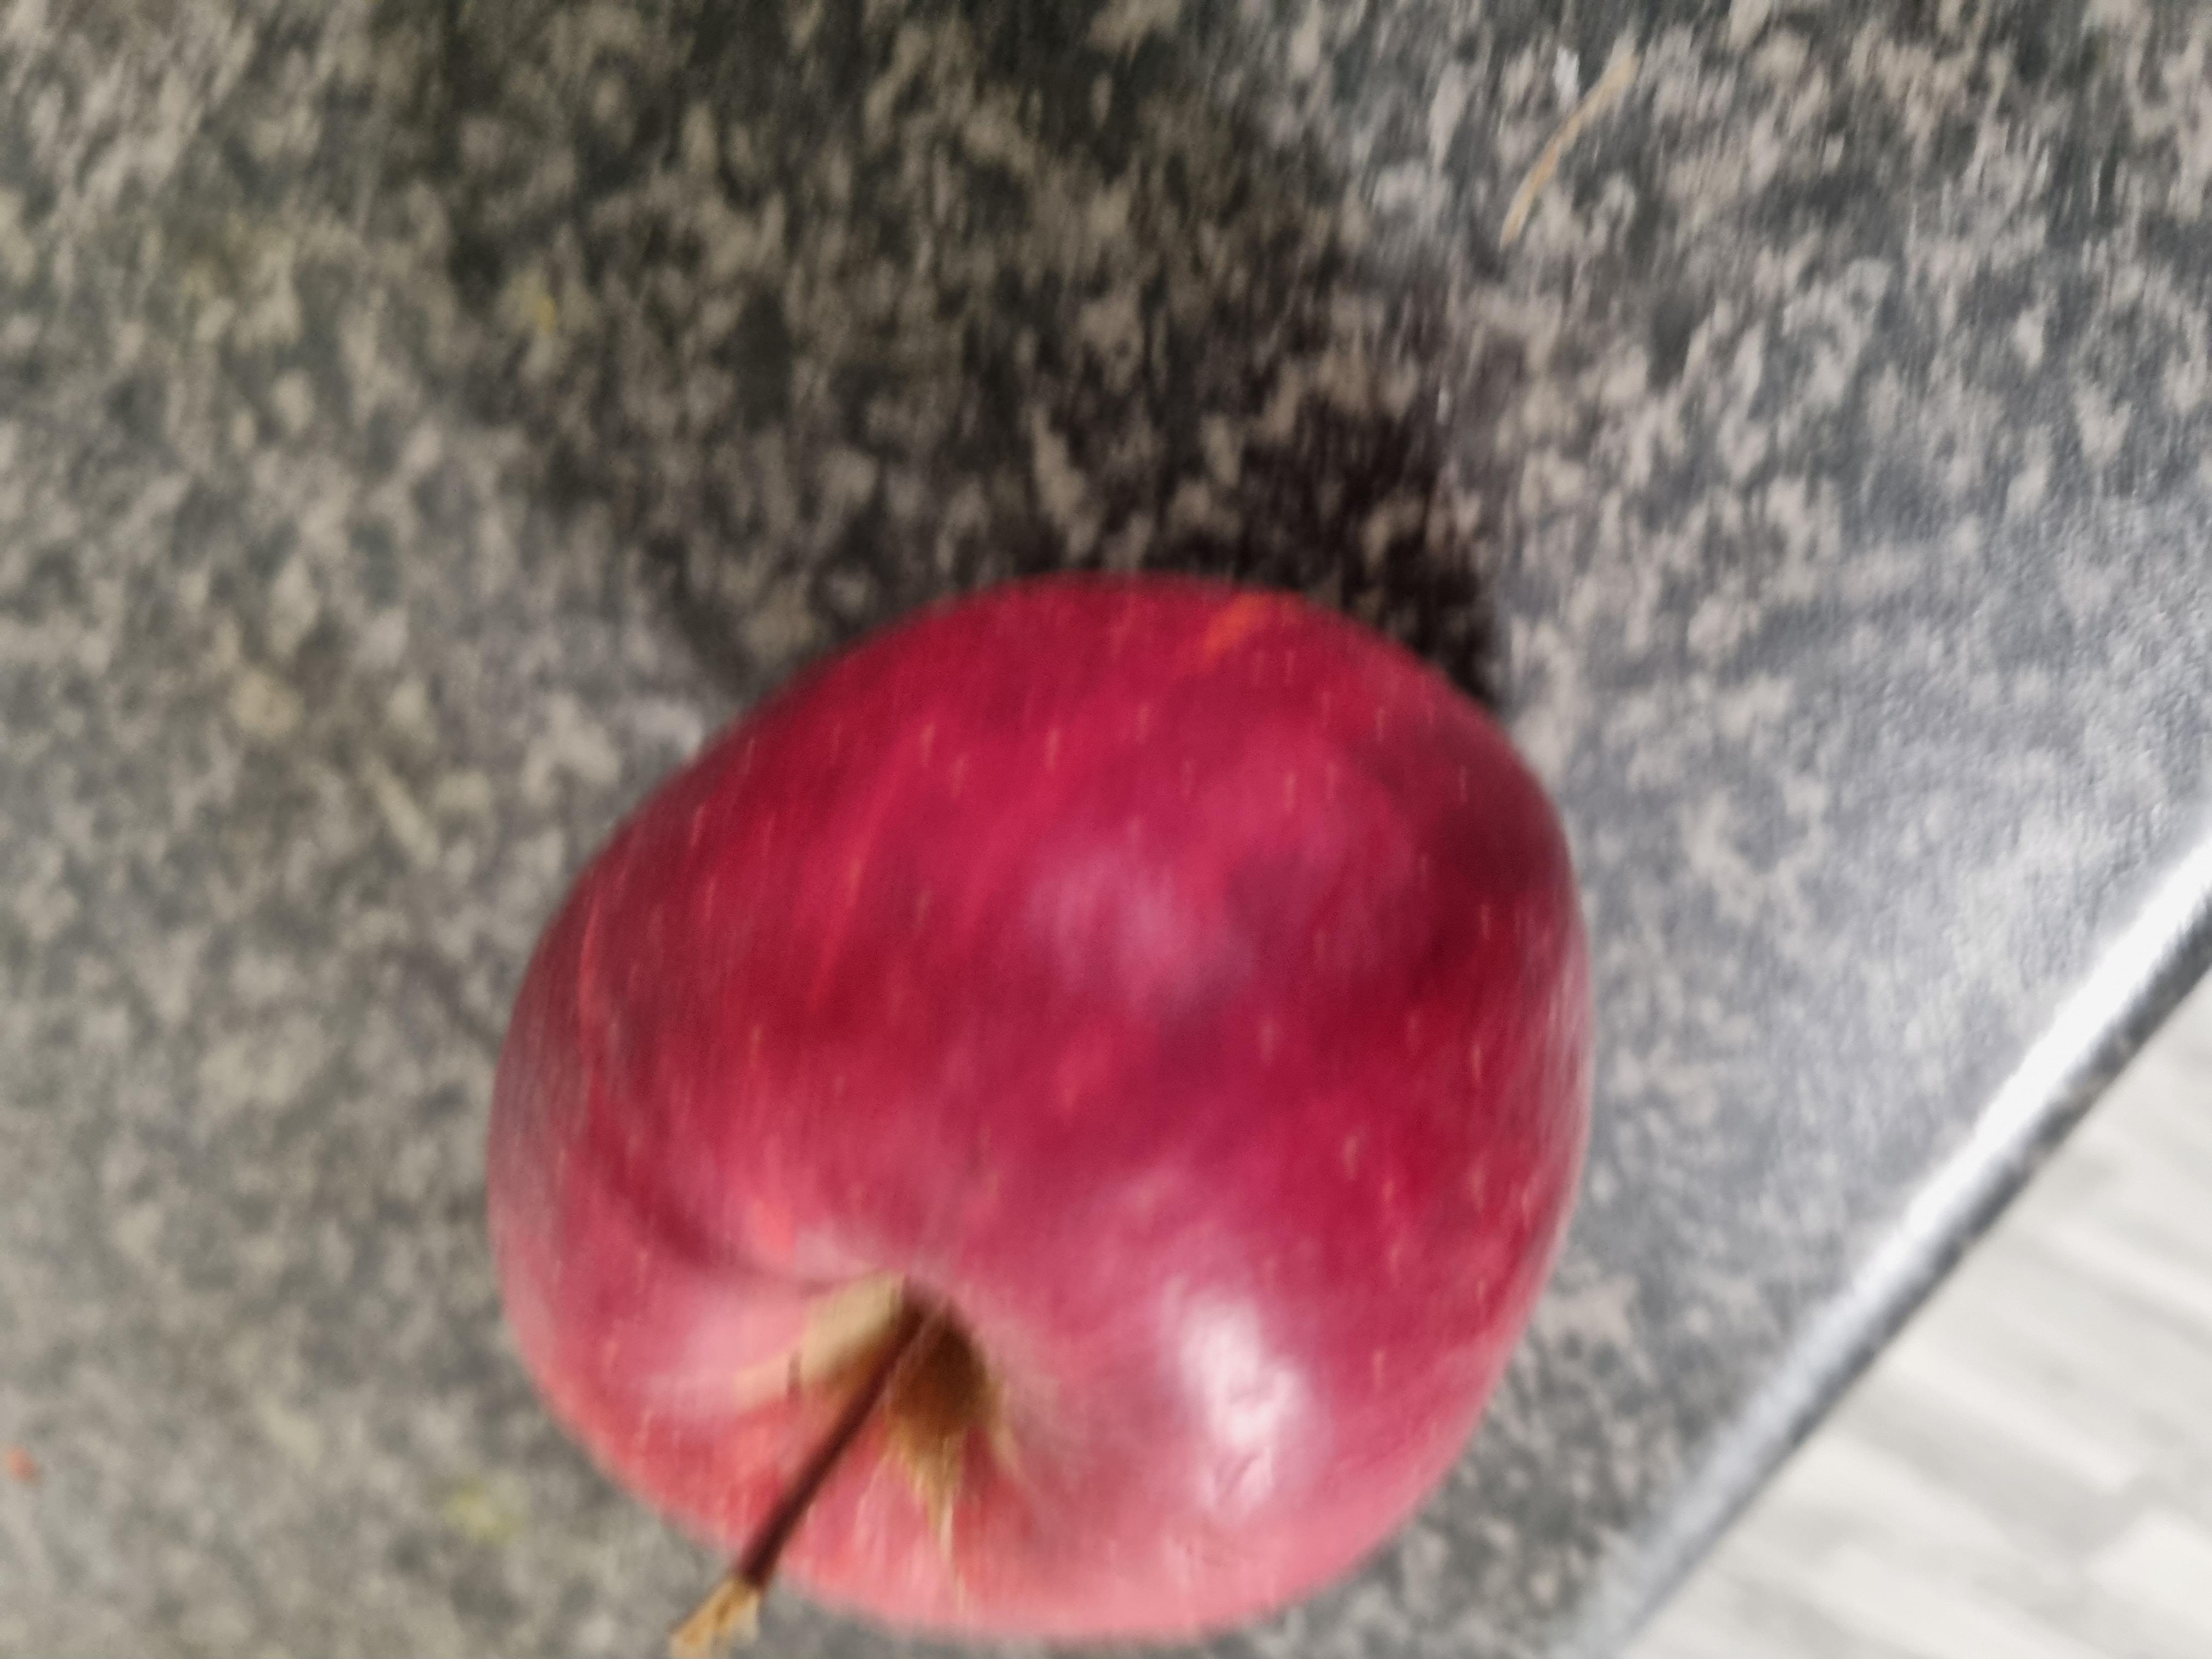Apple: (0, 342, 1500, 1206)
